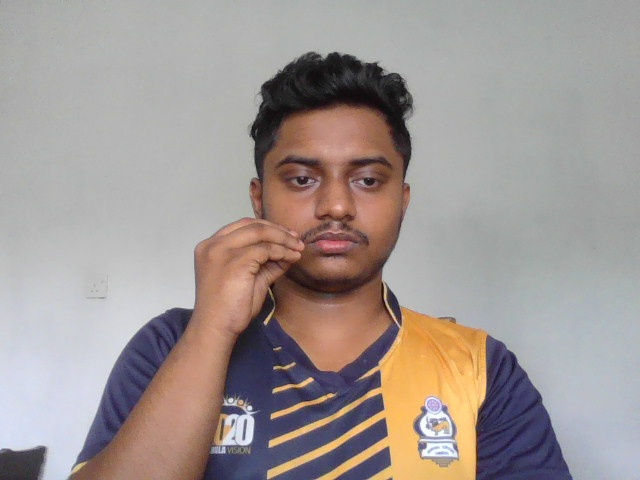Eat: (192, 212, 310, 338)
